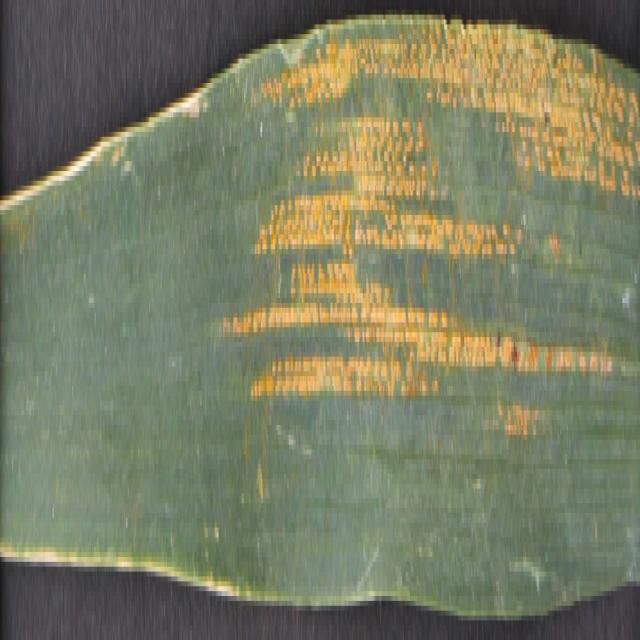leaf rust: (195, 5, 637, 425)
